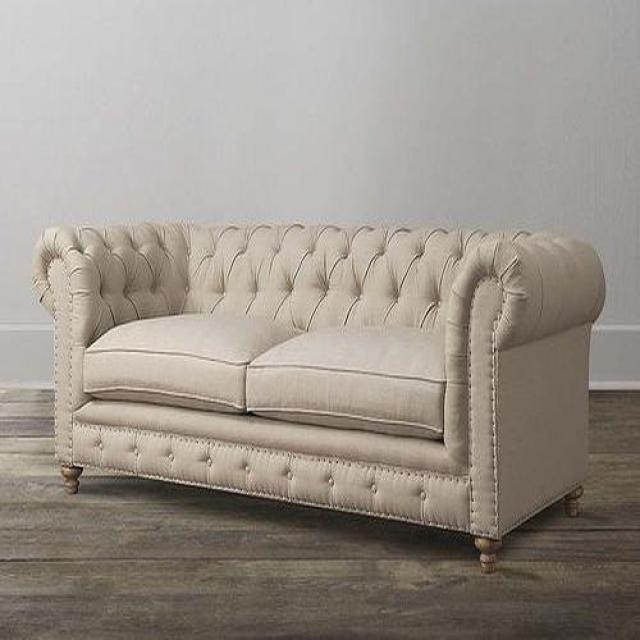sofa: (33, 223, 607, 561)
